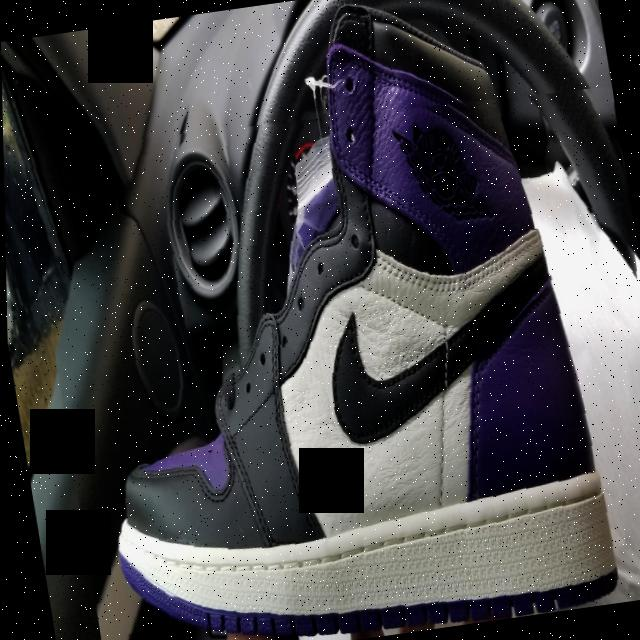shoe: (19, 68, 640, 640)
